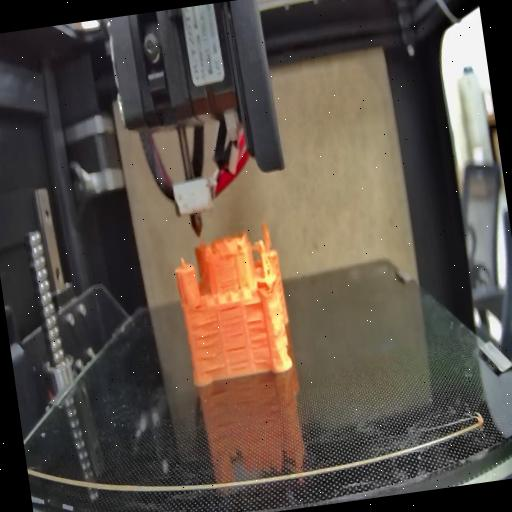cracks: (194, 322, 226, 372), (247, 316, 272, 368), (219, 302, 245, 340), (226, 343, 250, 372), (244, 295, 264, 311), (194, 297, 203, 309)
